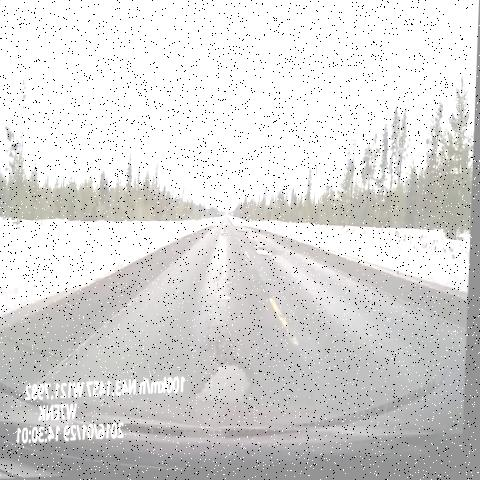pothole: (194, 348, 261, 417), (212, 276, 242, 322), (254, 240, 279, 265), (235, 225, 255, 249), (220, 223, 233, 249)
